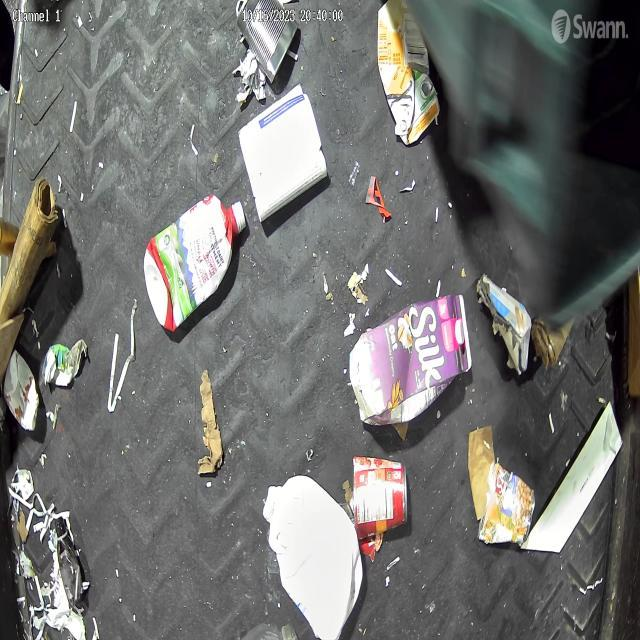can: (348, 450, 414, 550), (235, 2, 303, 79)
milk_jug: (259, 470, 354, 640)
